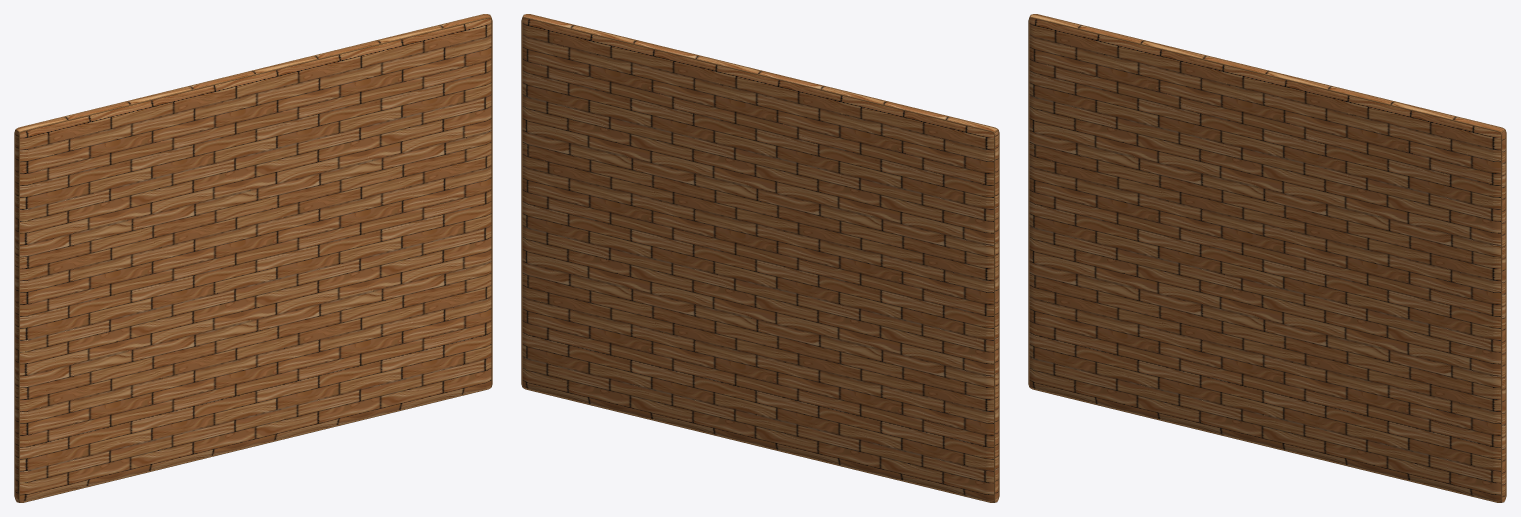
File: SM_FoamWall_3x4.fbx
3 renders of one model, left to right at view 1: azimuth 30°, elevation 25°; view 2: azimuth 150°, elevation 25°; view 3: azimuth 330°, elevation 25°, orthographic.
Parts seen in each view (by area): view 1: SM_SoftFoam_Wall_10_3x4; view 2: SM_SoftFoam_Wall_10_3x4; view 3: SM_SoftFoam_Wall_10_3x4.
Part boxes in pixels (left/top/right/bottom): SM_SoftFoam_Wall_10_3x4: left=14, top=14, right=492, bottom=502; SM_SoftFoam_Wall_10_3x4: left=521, top=14, right=999, bottom=502; SM_SoftFoam_Wall_10_3x4: left=1028, top=14, right=1506, bottom=502.
Size of the model in its own units: 383 by 288 by 10.
